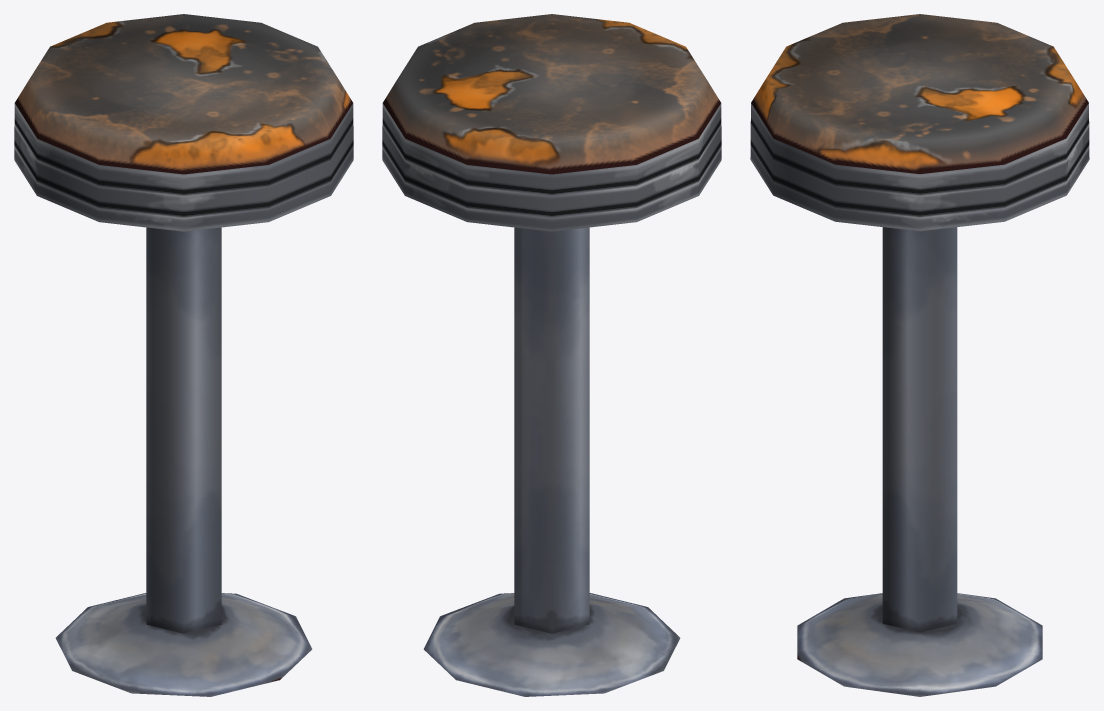
Rendered from chair07_black.fbx.
The picture shows the model from 3 angles, left to right: view 1: azimuth 30°, elevation 25°; view 2: azimuth 150°, elevation 25°; view 3: azimuth 270°, elevation 25°; orthographic projection.
Parts seen in each view (by area): view 1: chair07_black; view 2: chair07_black; view 3: chair07_black.
Part boxes in pixels (x1=…): chair07_black: x1=14, y1=14, x2=353, y2=696; chair07_black: x1=382, y1=14, x2=721, y2=696; chair07_black: x1=750, y1=14, x2=1089, y2=696.
Size of the model in its own units: 38.19 by 70 by 38.19.
